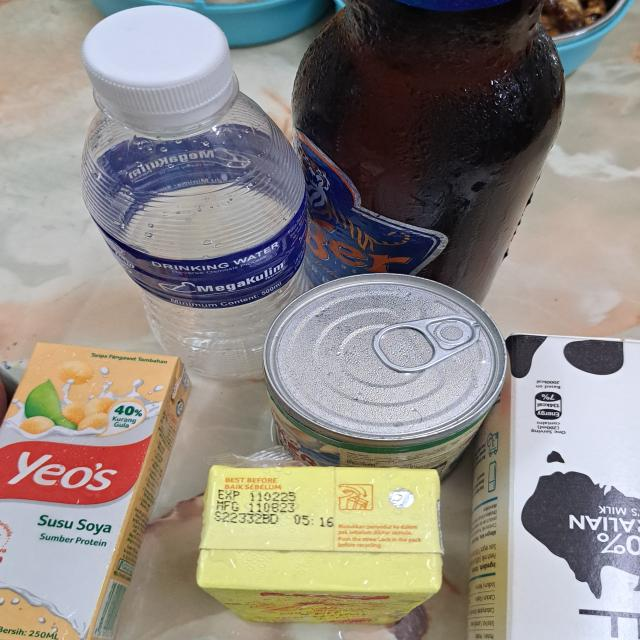can: (262, 273, 506, 484)
drink carton: (0, 341, 192, 640), (463, 332, 640, 640), (196, 464, 440, 624)
glass bottle: (290, 0, 564, 310)
plastic bottle: (80, 90, 307, 382)
plastic bottle cap: (80, 4, 234, 114)
pop tab: (371, 315, 481, 374)
